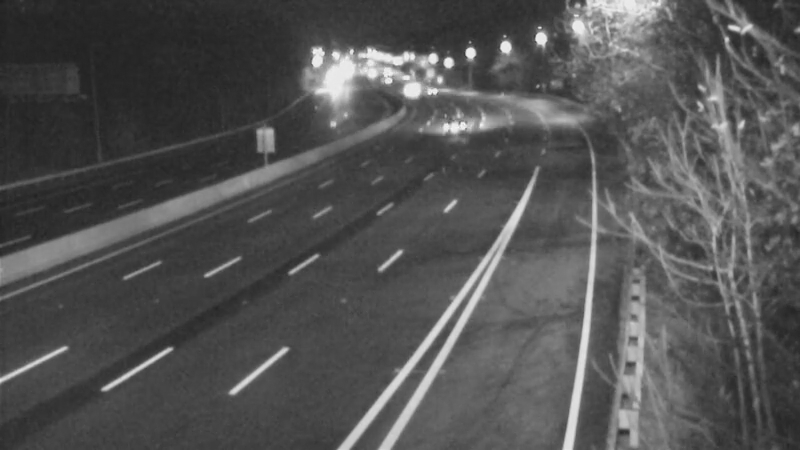vehicle: (381, 59, 431, 109), (407, 68, 457, 118), (427, 97, 477, 147)
